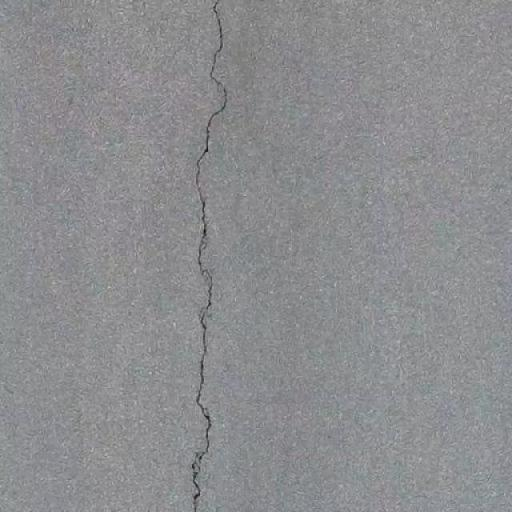moderate crack: (190, 3, 225, 505), (193, 336, 209, 418), (190, 449, 204, 500), (3, 381, 13, 393)
severe crack: (206, 6, 512, 512), (0, 169, 195, 509), (198, 117, 214, 175), (210, 2, 224, 60), (197, 295, 214, 336), (212, 83, 227, 122), (198, 412, 211, 443)
